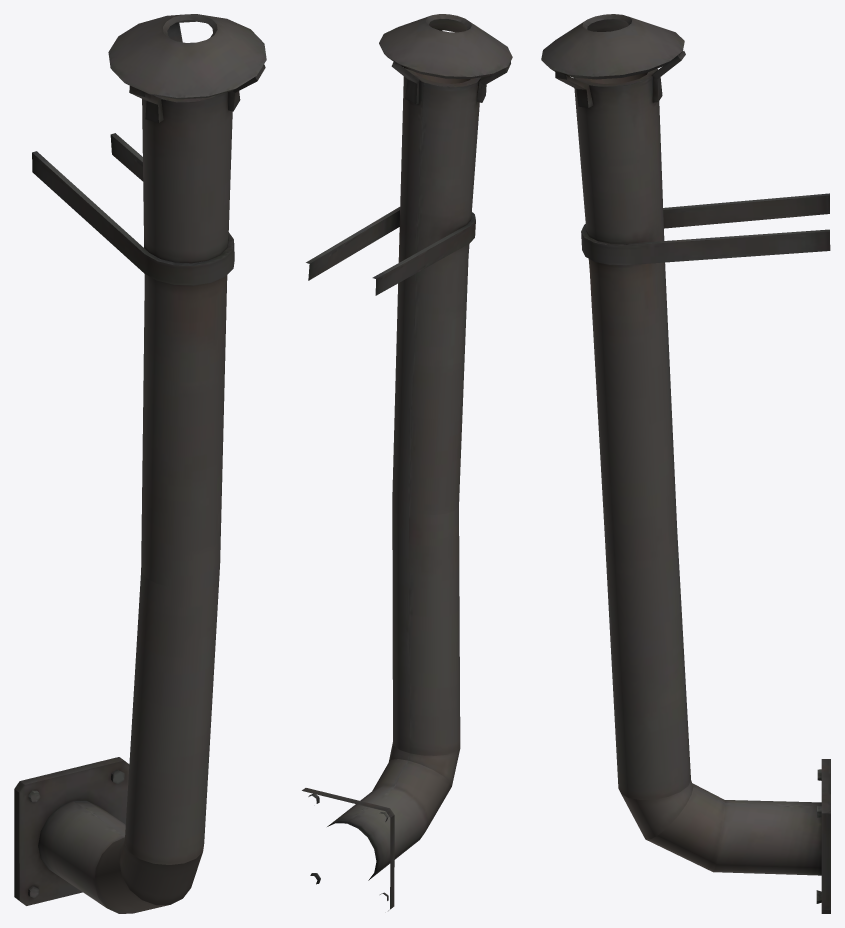
3 views of the same model, side by side, from view 1: azimuth 30°, elevation 25°; view 2: azimuth 150°, elevation 25°; view 3: azimuth 270°, elevation 25° (orthographic). The views are drawn at different scales.
Visible parts, largest first — view 1: body0_model0_lod0_mesh0; view 2: body0_model0_lod0_mesh0; view 3: body0_model0_lod0_mesh0.
Part boxes in pixels (left/top/right/bottom): body0_model0_lod0_mesh0: left=14, top=14, right=266, bottom=913; body0_model0_lod0_mesh0: left=302, top=14, right=512, bottom=910; body0_model0_lod0_mesh0: left=541, top=14, right=830, bottom=913.
Size of the model in its own units: 38.78 by 259 by 78.17.
1 material, 1 textured.
